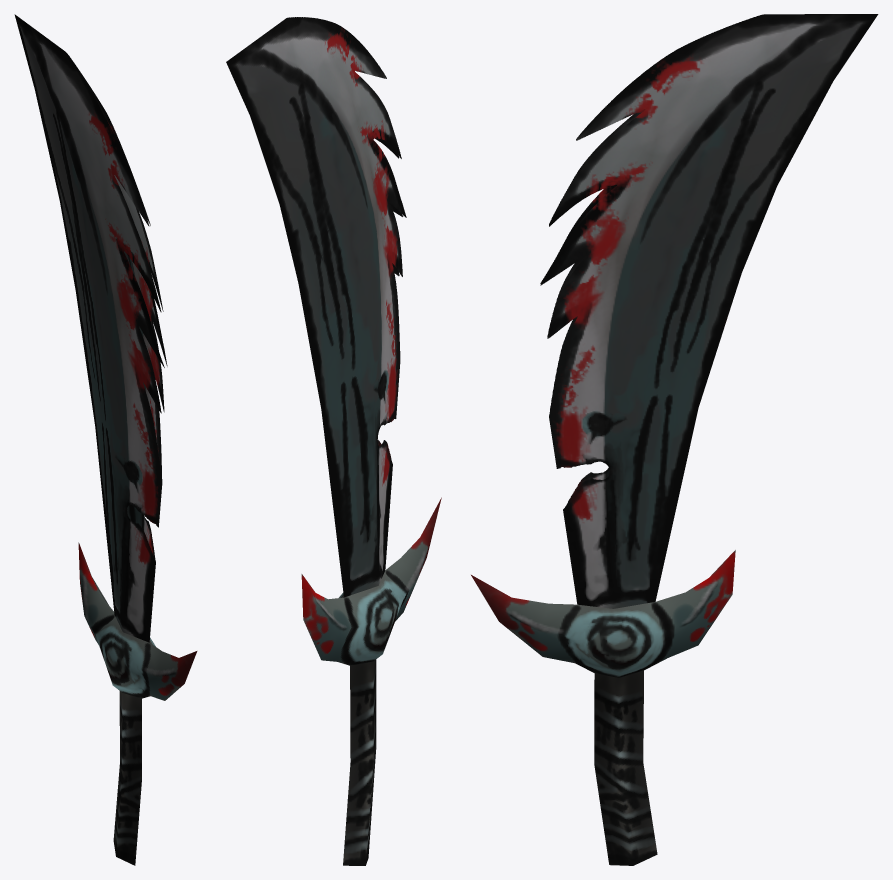
Rendered from WP_Werewolf_Elite.FBX.
3 renders of one model, left to right at view 1: azimuth 30°, elevation 25°; view 2: azimuth 150°, elevation 25°; view 3: azimuth 270°, elevation 25°, orthographic. The views are drawn at different scales.
Visible parts, largest first — view 1: WP_Werewolf_Elite; view 2: WP_Werewolf_Elite; view 3: WP_Werewolf_Elite.
Boxes of the visible parts, x1,y1,x2,y2 form: WP_Werewolf_Elite: (14,14,197,865); WP_Werewolf_Elite: (226,17,441,865); WP_Werewolf_Elite: (471,14,878,865).
Bounding box in the file's own units: 17.54 × 317 × 138.
